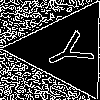Y: (40, 24, 100, 77)
